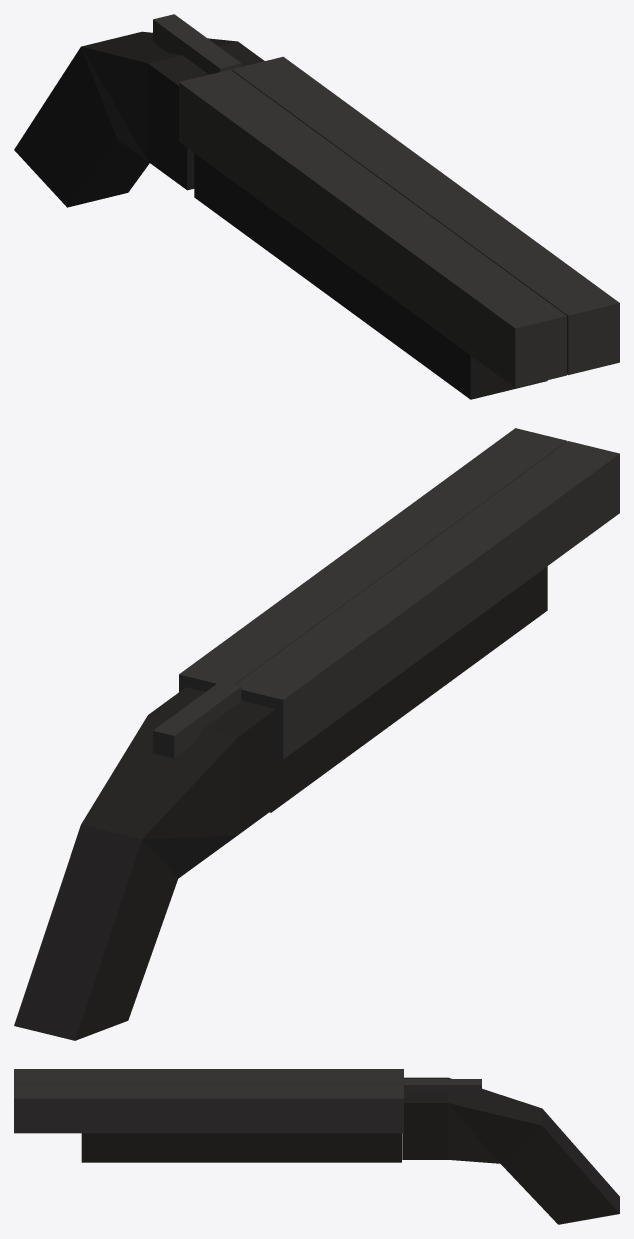
The model's file is SawnOffSG.FBX.
3 views of the same model, one above another, from view 1: azimuth 30°, elevation 25°; view 2: azimuth 150°, elevation 25°; view 3: azimuth 270°, elevation 25° (orthographic). The views are drawn at different scales.
Parts seen in each view (by area): view 1: SawnOffSGfront, SawnOffSG; view 2: SawnOffSGfront, SawnOffSG; view 3: SawnOffSGfront, SawnOffSG.
Boxes of the visible parts, <box> form: SawnOffSGfront: <box>179,56,619,399</box>; SawnOffSG: <box>14,14,264,207</box>; SawnOffSGfront: <box>179,428,619,812</box>; SawnOffSG: <box>14,681,277,1040</box>; SawnOffSGfront: <box>14,1069,403,1162</box>; SawnOffSG: <box>402,1077,619,1224</box>.
Bounding box in the file's own units: 12.92 × 112 × 27.35.
